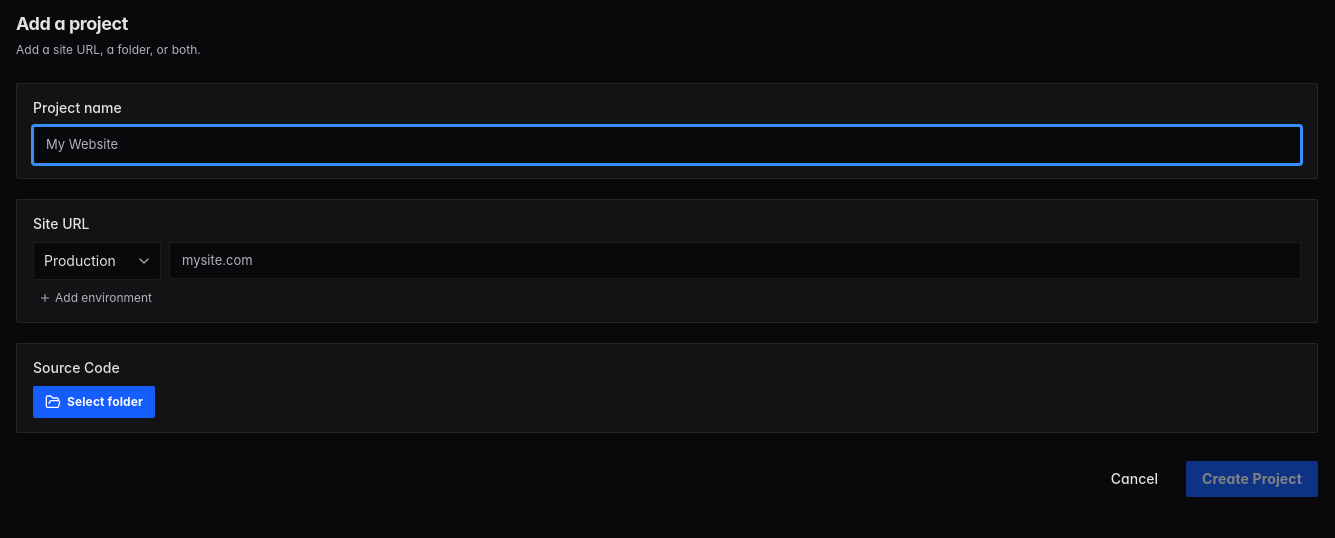
Test: AddProjectForm primary environment › says why a URL-only creation failed instead of appearing to do nothing
Type "Broken" into the field labelled "Project name".
click(667, 145); type("Broken")  # box [33,126,1301,164]
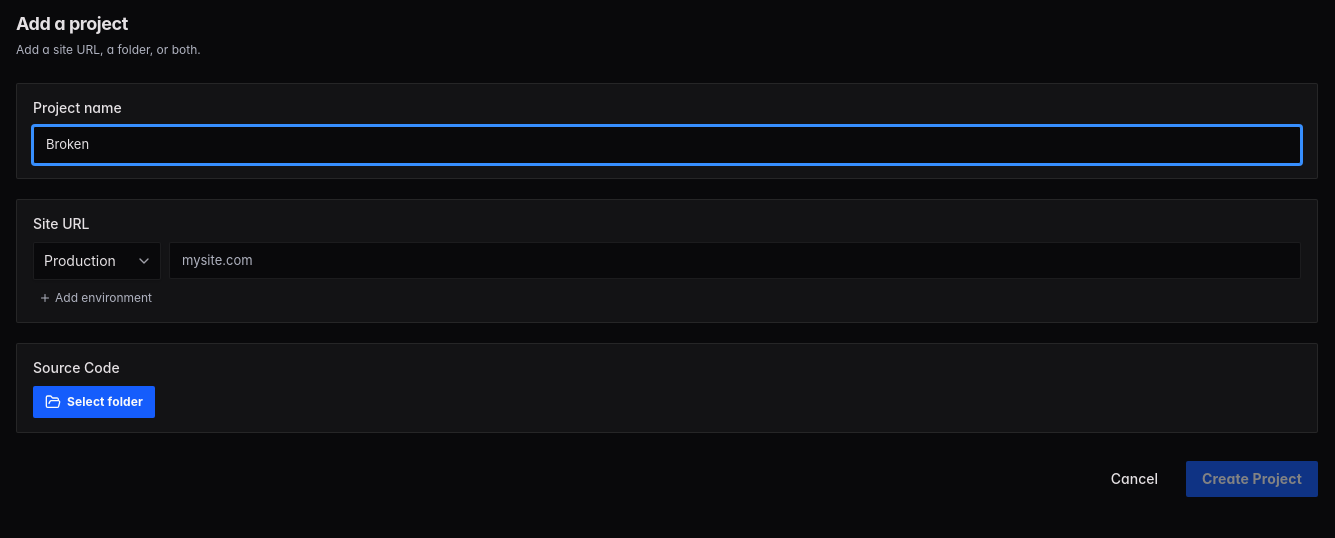
Type "example.com" into the field labelled "Site URL".
click(735, 261); type("example.com")  # box [169,242,1301,279]
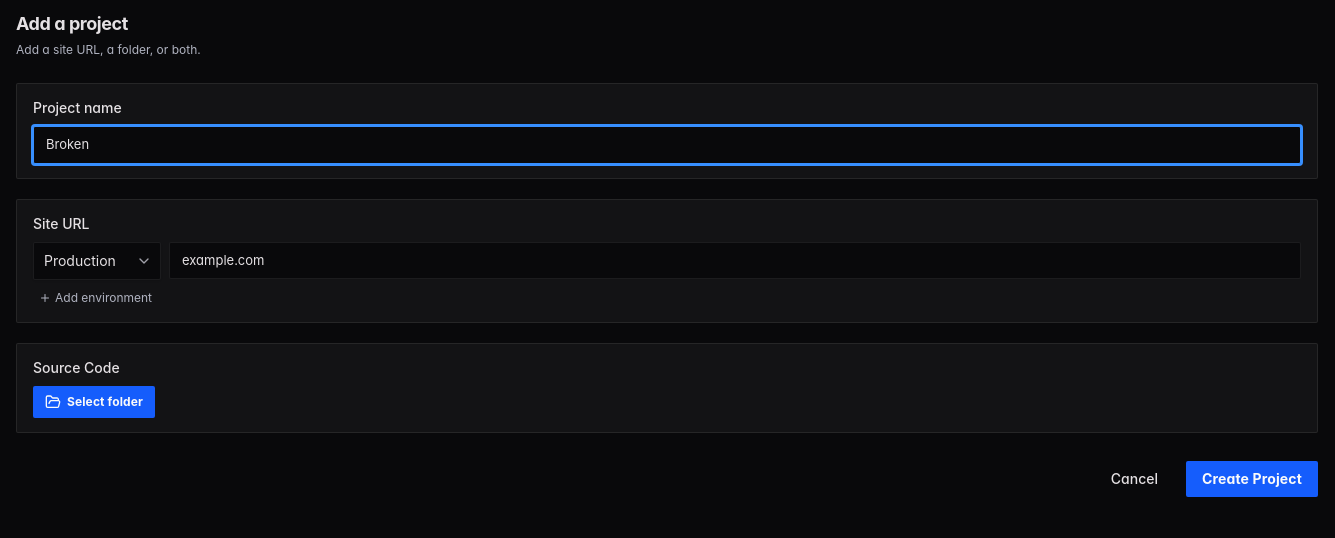
Click the button "Create Project".
click(1252, 478)  # box [1186,460,1318,496]
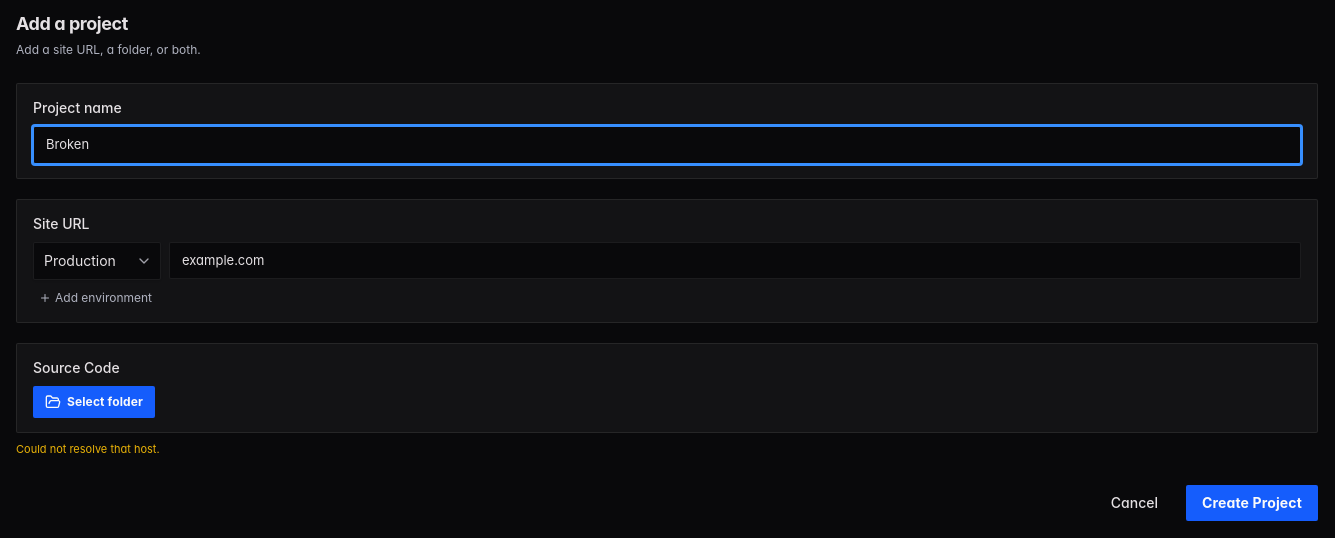
Now the message shows "Could not resolve that host", box [16,442,160,456]
